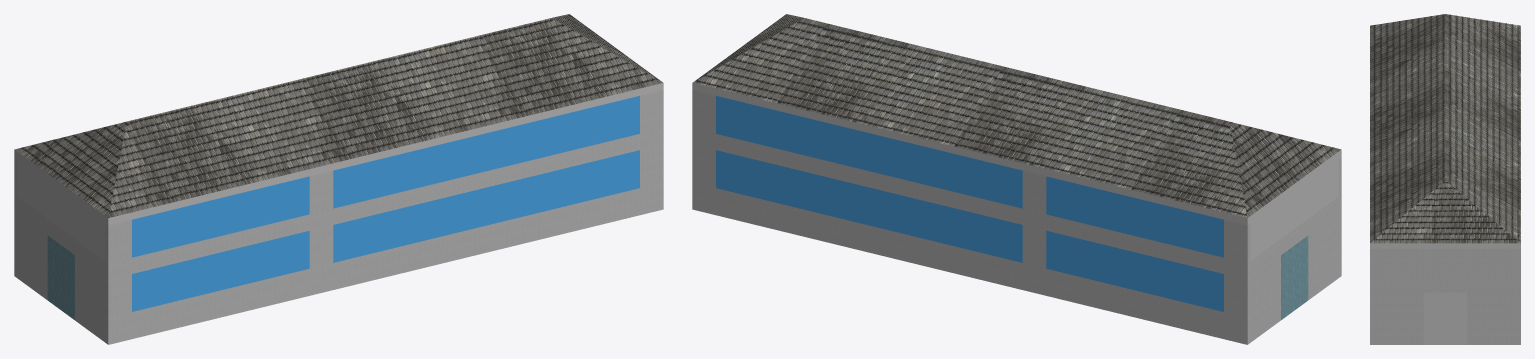
File: Warehouse.glb
3 renders of one model, left to right at view 1: azimuth 30°, elevation 25°; view 2: azimuth 150°, elevation 25°; view 3: azimuth 270°, elevation 25°, orthographic. The views are drawn at different scales.
Parts seen in each view (by area): view 1: Floor1, Roof; view 2: Floor1, Roof; view 3: Roof, Floor1.
Part boxes in pixels (x1,y1,x2,y2): Floor1: (14, 90, 663, 344); Roof: (14, 14, 663, 225); Floor1: (692, 90, 1341, 344); Roof: (692, 14, 1341, 225); Roof: (1370, 14, 1520, 248); Floor1: (1370, 249, 1520, 344).
Bounding box in the file's own units: 32.08 × 9.56 × 9.41.
Materials: 4 (4 with a texture image).
